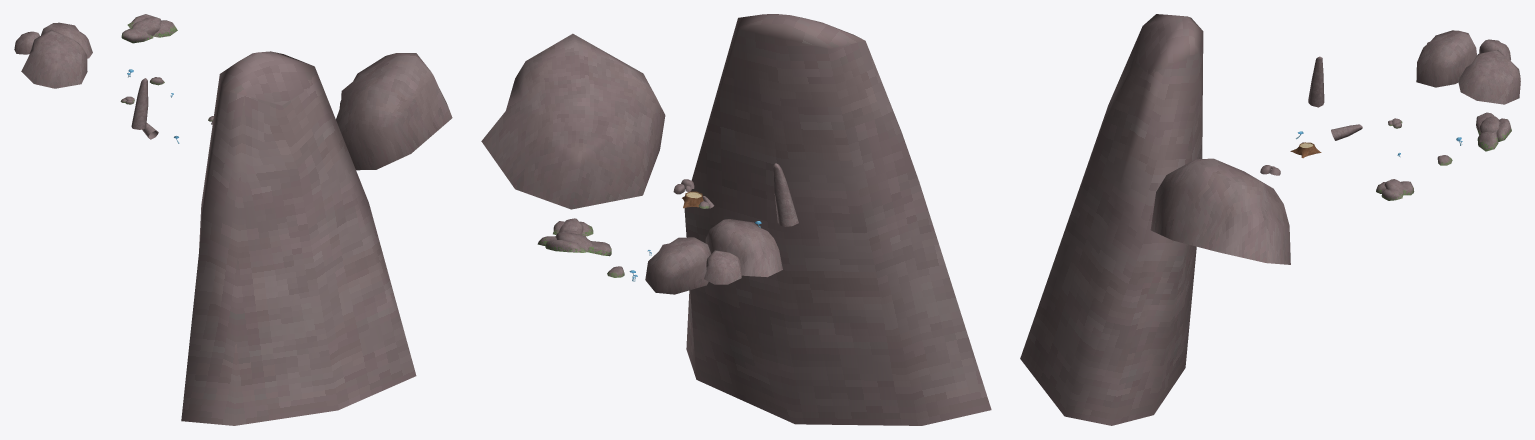
The model's file is level_opaque_props.fbx.
The picture shows the model from 3 angles, left to right: view 1: azimuth 30°, elevation 25°; view 2: azimuth 150°, elevation 25°; view 3: azimuth 270°, elevation 25°; orthographic projection. The views are drawn at different scales.
Parts seen in each view (by area): view 1: opaque_PROPS_GEO_GRP; view 2: opaque_PROPS_GEO_GRP; view 3: opaque_PROPS_GEO_GRP.
Boxes of the visible parts, box(x1,y1,x2,y2) form: opaque_PROPS_GEO_GRP: box(14, 14, 452, 425); opaque_PROPS_GEO_GRP: box(481, 14, 991, 425); opaque_PROPS_GEO_GRP: box(1020, 14, 1520, 425).
Size of the model in its own units: 115 by 109 by 141.
5 materials, 5 textured.
